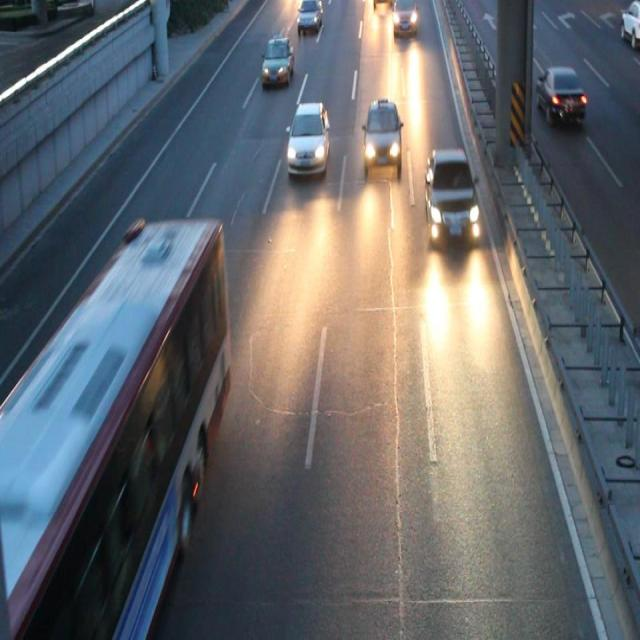car: (424, 148, 477, 238), (288, 102, 328, 172), (532, 66, 582, 121), (362, 102, 400, 169), (261, 39, 293, 84), (391, 2, 416, 34), (296, 1, 322, 30)
van: (1, 219, 225, 640)
